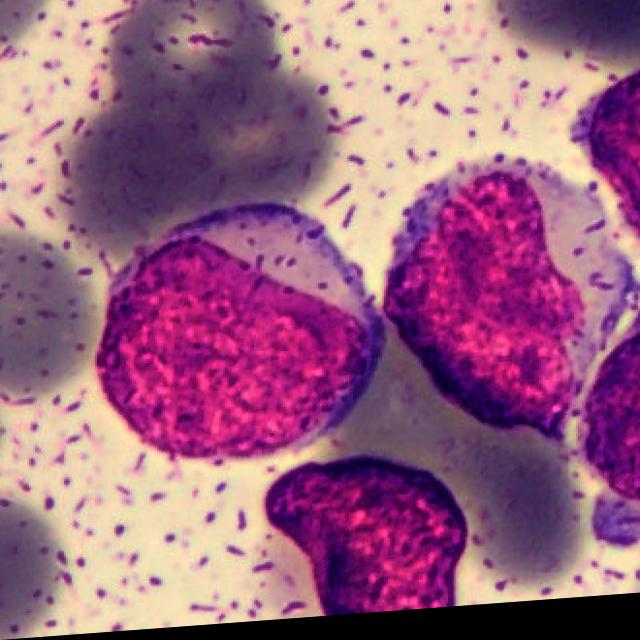Mieloblasto: (93, 203, 386, 464), (384, 162, 628, 445)
Restos celulares: (264, 460, 469, 621)
